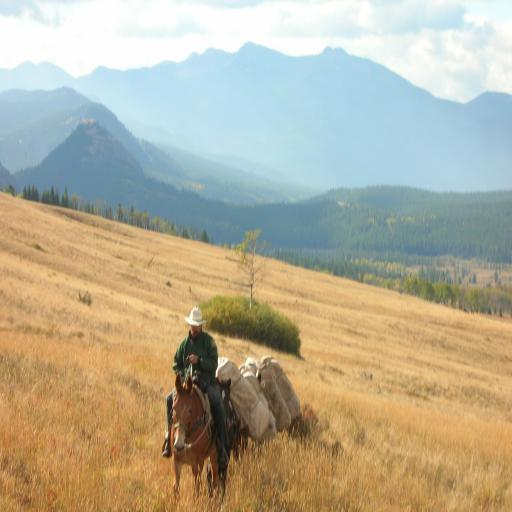horse: (170, 369, 220, 492), (214, 380, 242, 496)
